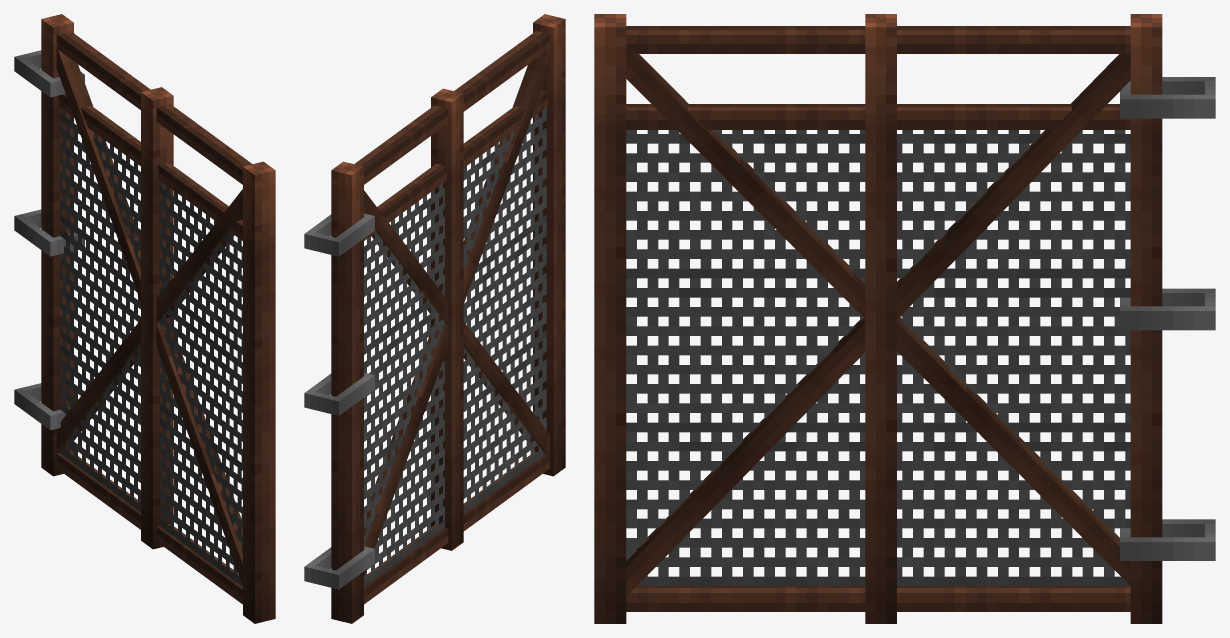
The model's file is chain_fence_gate.obj.
The picture shows the model from 3 angles, left to right: view 1: azimuth 30°, elevation 25°; view 2: azimuth 150°, elevation 25°; view 3: azimuth 270°, elevation 25°; orthographic projection. The views are drawn at different scales.
Parts seen in each view (by area): view 1: baseModel, cube; view 2: baseModel, cube; view 3: cube, baseModel.
Boxes of the visible parts, left/top/right/bottom form: baseModel: left=14, top=14, right=275, bottom=623; cube: left=60, top=109, right=242, bottom=586; baseModel: left=304, top=14, right=565, bottom=623; cube: left=364, top=107, right=546, bottom=586; cube: left=626, top=130, right=1130, bottom=585; baseModel: left=594, top=14, right=1215, bottom=623.
Bounding box in the file's own units: 0.3125 × 3.88 × 3.66.
